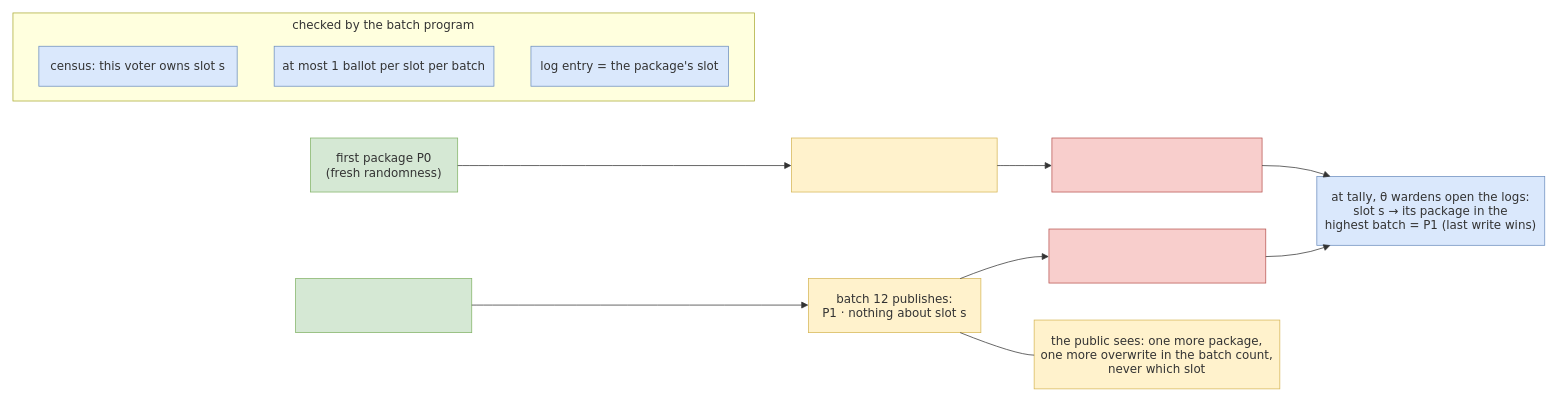
The diagram is 1558 pixels wide and 402 high, and some of its shapes have lost their labels. Each missing label, with the centre of its shape:
batch 7 publishes: P0 · slot s marked OCCUPIED: (x=894, y=164)
revote: fresh package P1 (no reference to P0): (x=383, y=305)
write log of batch 12 (encrypted): P1 wrote slot s: (x=1157, y=255)
write log of batch 7 (encrypted): P0 wrote slot s: (x=1156, y=164)
